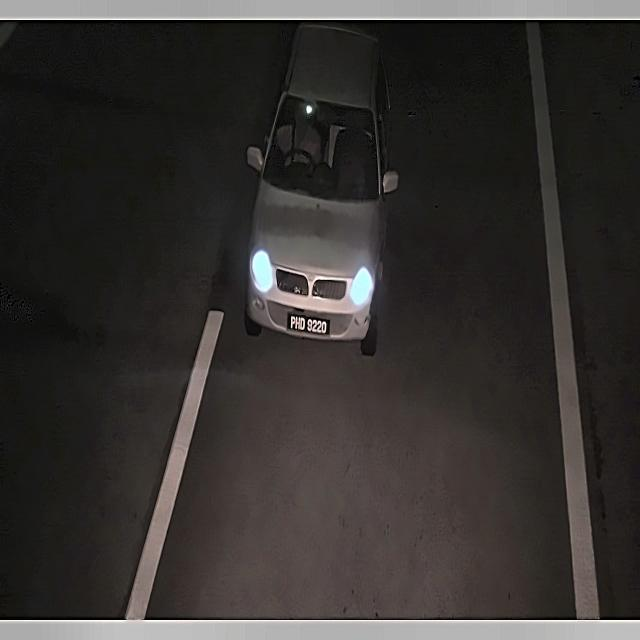car: (282, 302, 336, 345)
